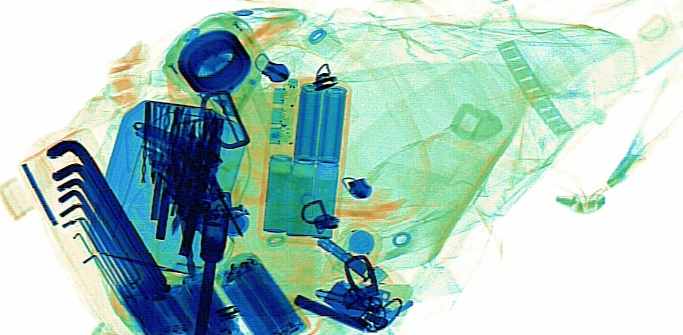powerbank: (257, 73, 353, 245)
